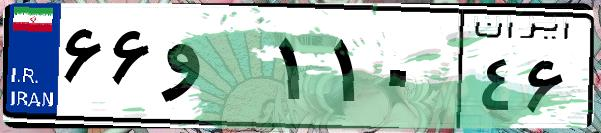0: (385, 28, 445, 110)
1: (270, 28, 330, 110), (330, 28, 385, 110)
4: (475, 38, 525, 113)
6: (57, 26, 110, 100), (525, 38, 570, 115), (110, 28, 158, 98)
و: (158, 20, 270, 120)
